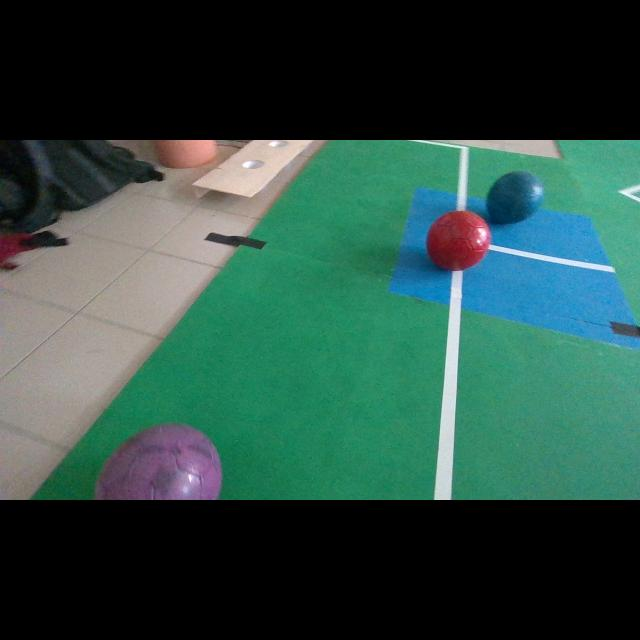B: (488, 171, 544, 224)
P: (95, 424, 222, 500)
R: (426, 210, 491, 271)
